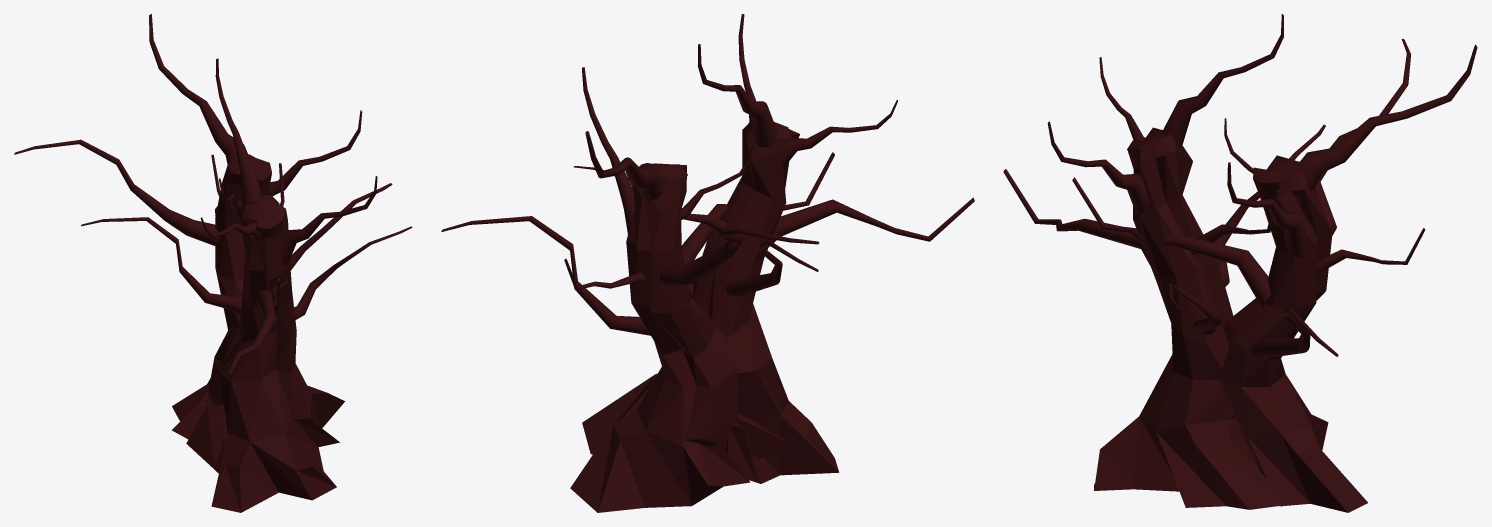
Rendered from Arbol_Doble1.fbx.
The picture shows the model from 3 angles, left to right: view 1: azimuth 30°, elevation 25°; view 2: azimuth 150°, elevation 25°; view 3: azimuth 270°, elevation 25°; orthographic projection. The views are drawn at different scales.
Parts seen in each view (by area): view 1: Box001.001; view 2: Box001.001; view 3: Box001.001.
Part boxes in pixels (x1=…): Box001.001: x1=14, y1=14, x2=412, y2=512; Box001.001: x1=441, y1=14, x2=974, y2=512; Box001.001: x1=1003, y1=14, x2=1477, y2=512.
Bounding box in the file's own units: 8.86 × 9.51 × 8.74.
